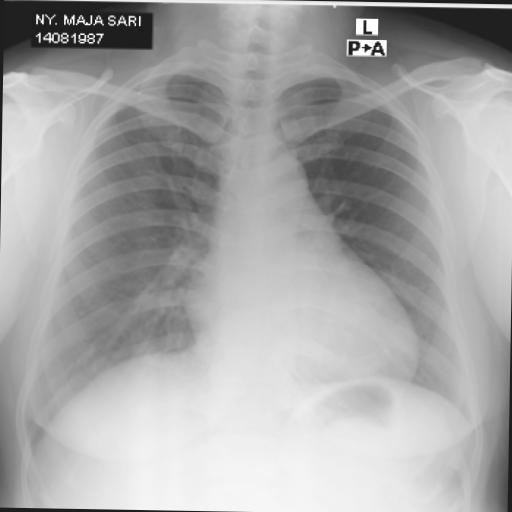kardiomegali: (172, 225, 432, 409)
